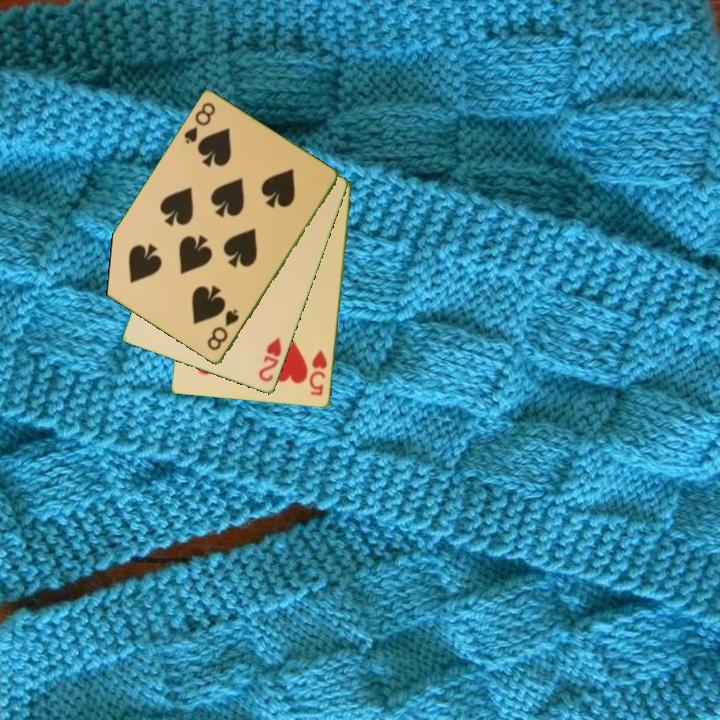2h: (255, 334, 285, 385)
5h: (307, 347, 330, 399)
8s: (204, 306, 242, 354), (180, 99, 218, 147)
